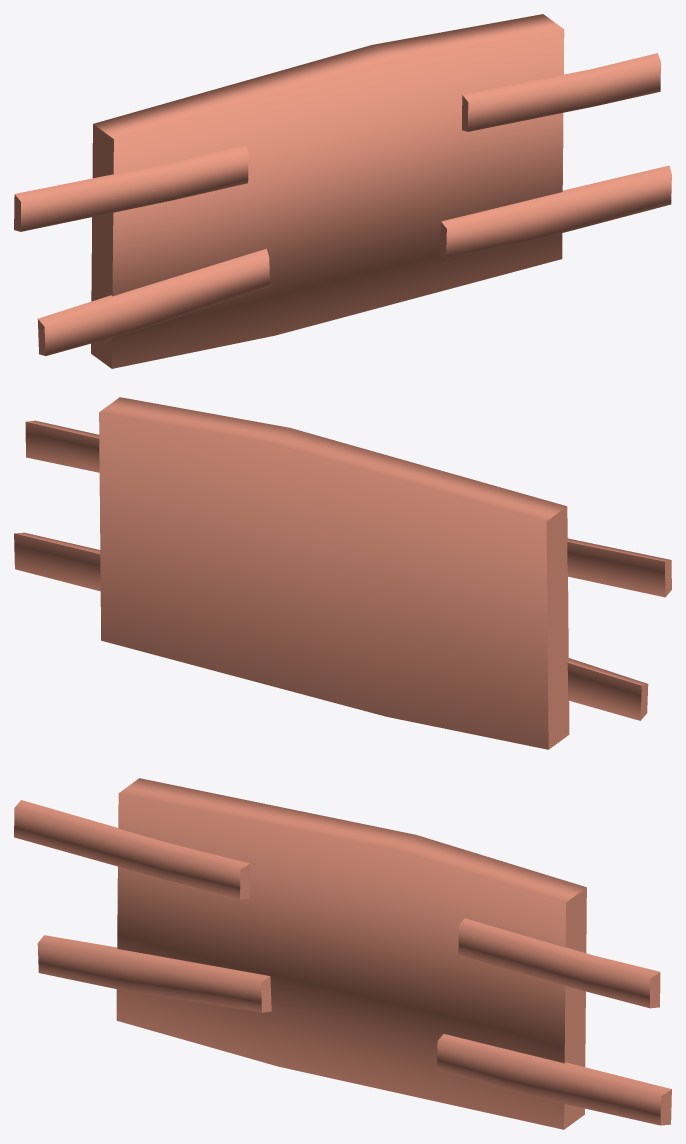
Rendered from shutter_04.fbx.
3 views of the same model, one above another, from view 1: azimuth 30°, elevation 25°; view 2: azimuth 150°, elevation 25°; view 3: azimuth 330°, elevation 25° (orthographic).
Parts seen in each view (by area): view 1: Cube.191; view 2: Cube.191; view 3: Cube.191.
Boxes of the visible parts, box(x1,y1,x2,y2) form: Cube.191: box(14, 14, 671, 368); Cube.191: box(14, 397, 671, 749); Cube.191: box(14, 778, 671, 1129).
Size of the model in its own units: 1.55 by 0.5561 by 0.1153.
